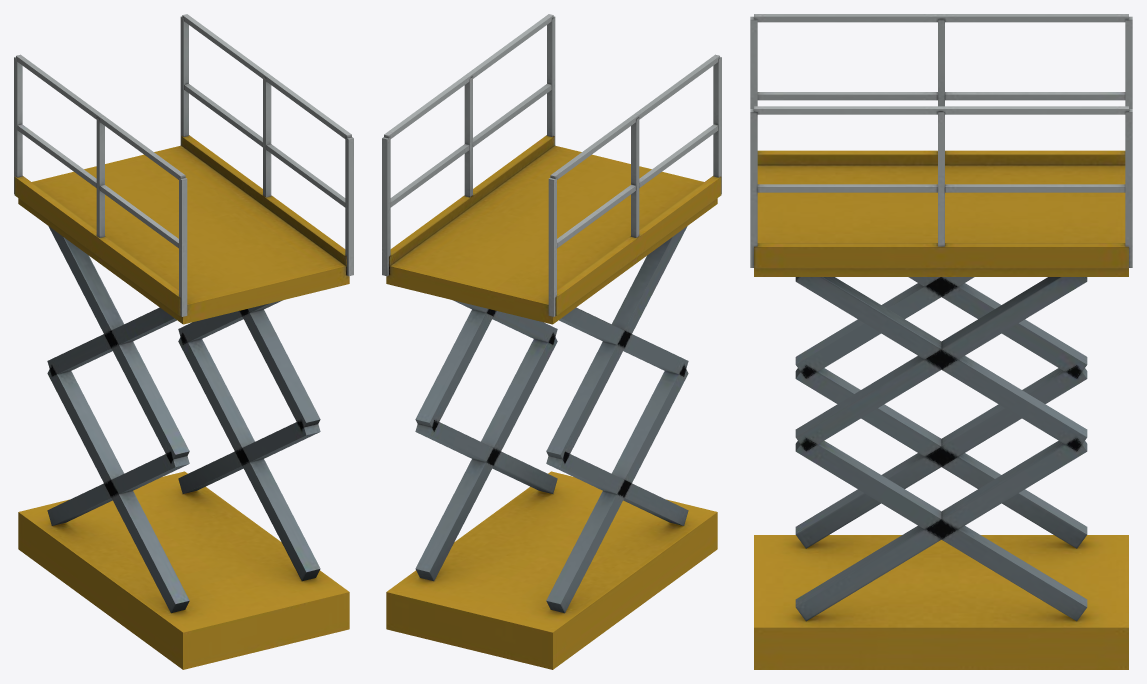
Rendered from scissor_lift.glb.
The picture shows the model from 3 angles, left to right: view 1: azimuth 30°, elevation 25°; view 2: azimuth 150°, elevation 25°; view 3: azimuth 270°, elevation 25°; orthographic projection. The views are drawn at different scales.
Visible parts, largest first — view 1: body; view 2: body; view 3: body.
Boxes of the visible parts, bbox=[...] form: body: bbox=[14, 14, 353, 669]; body: bbox=[382, 14, 721, 669]; body: bbox=[750, 14, 1132, 669].
Bounding box in the file's own units: 1.46 × 3.97 × 2.45.
Materials: 1 (1 with a texture image).
